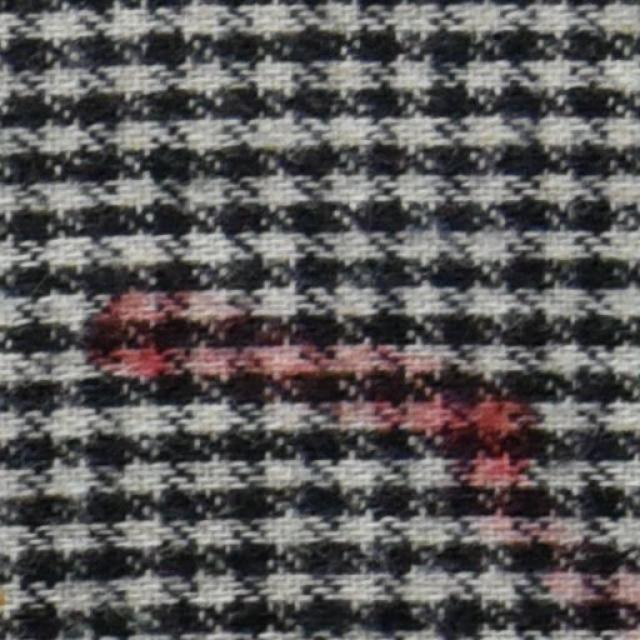Stain: (75, 278, 623, 609)
